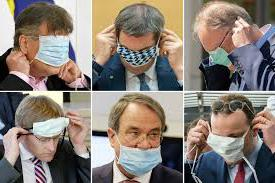mask_weared_incorrect: (118, 119, 161, 172), (31, 34, 71, 79), (210, 118, 246, 167), (116, 38, 154, 77), (30, 123, 63, 162), (202, 30, 230, 69)
